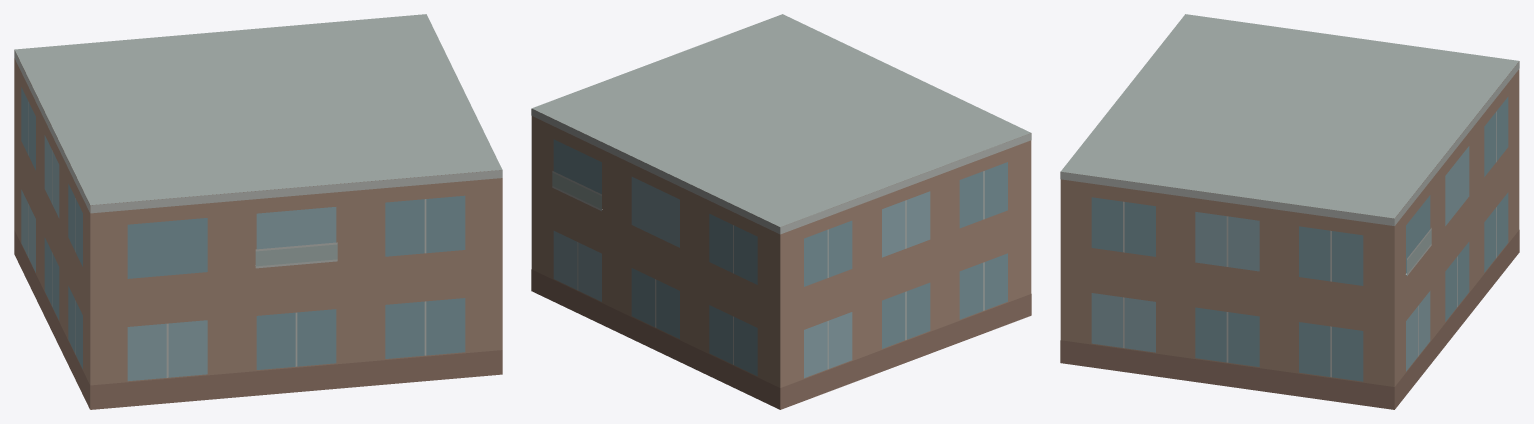
The model's file is survey-upis-32712692.glb.
The picture shows the model from 3 angles, left to right: view 1: azimuth 30°, elevation 25°; view 2: azimuth 150°, elevation 25°; view 3: azimuth 270°, elevation 25°; orthographic projection. The views are drawn at different scales.
Visible parts, largest first — view 1: survey-upis-32712692.tmp; view 2: survey-upis-32712692.tmp; view 3: survey-upis-32712692.tmp.
Boxes of the visible parts, <box> form: survey-upis-32712692.tmp: <box>14,14,502,409</box>; survey-upis-32712692.tmp: <box>531,14,1031,409</box>; survey-upis-32712692.tmp: <box>1060,14,1519,409</box>.
Bounding box in the file's own units: 13.99 × 6.1 × 13.27.
